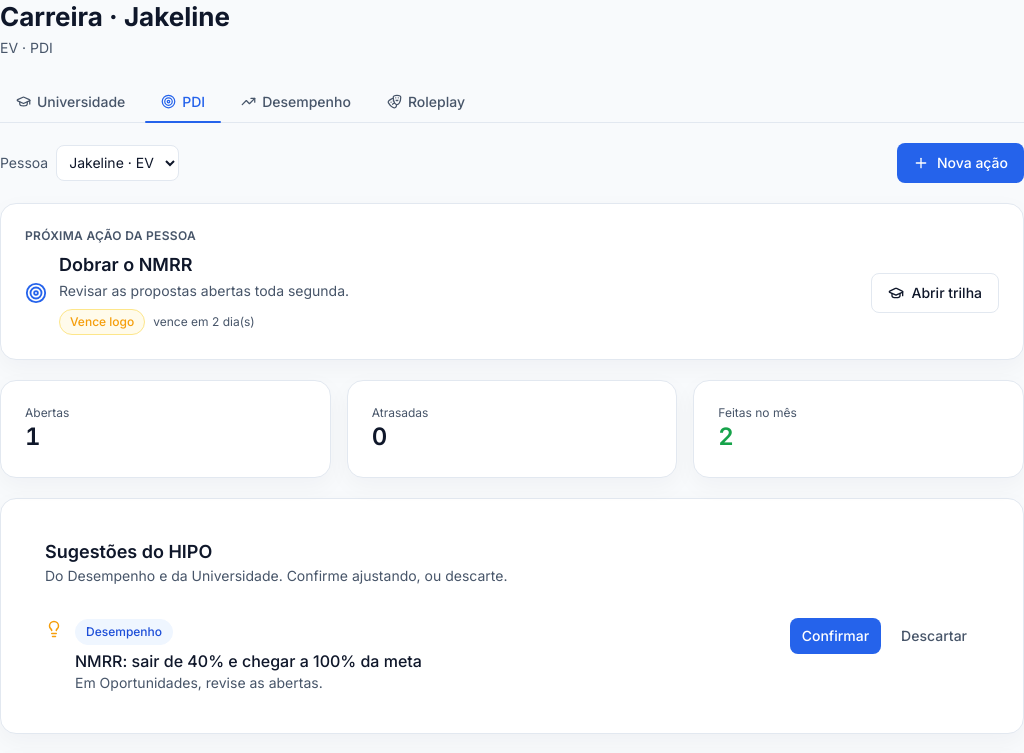
PDI › gestão confirma a sugestão pelo formulário preenchido
Click the button "Confirmar" at (835, 636), box [790,618,881,654]
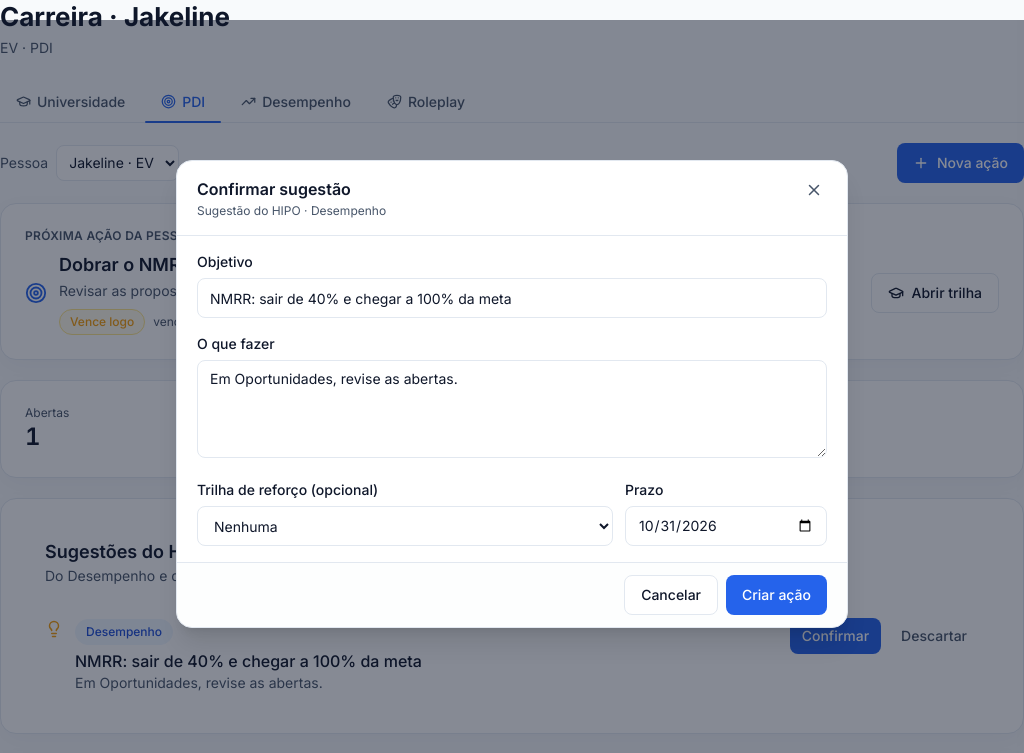
Check: the field labelled "Objetivo" holds "NMRR: sair de 40% e chegar a 100% da meta"
Check: the date field labelled "Prazo" holds "2026-10-31", box [625,506,827,546]
Replace the text in the field labelled "Objetivo" with "NMRR na meta em outubro" at (512, 298), box [197,278,827,318]
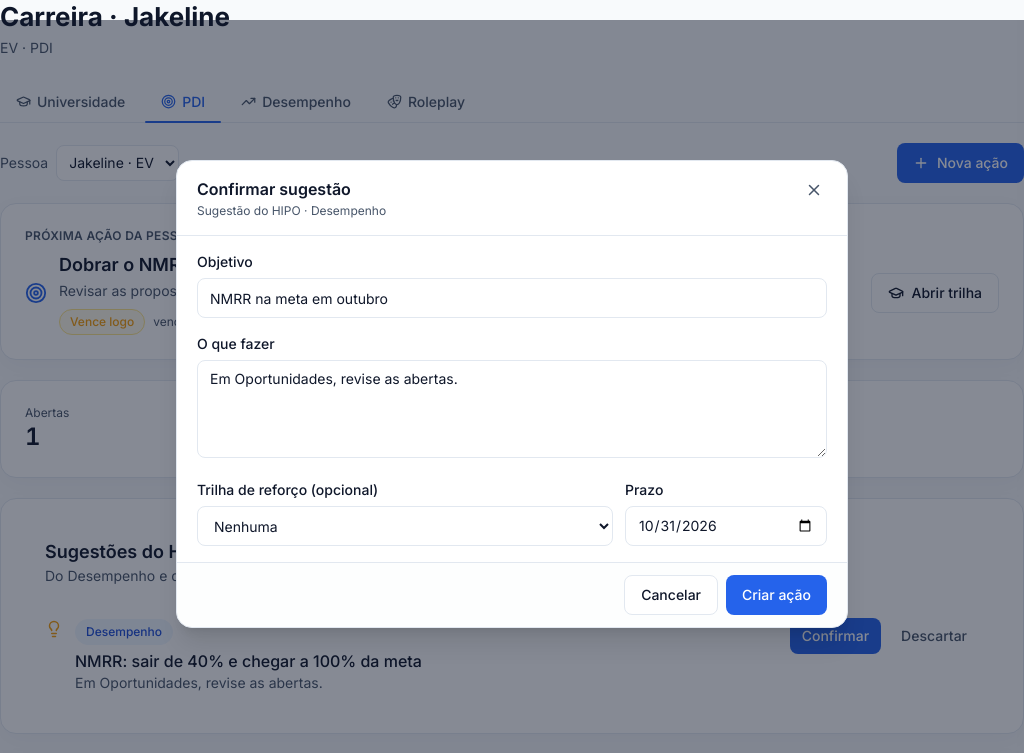
Select "Método · 02 · Roteiro do EV" in the dropdown labelled "Trilha de reforço (opcional)" at (405, 526), box [197,506,613,546]
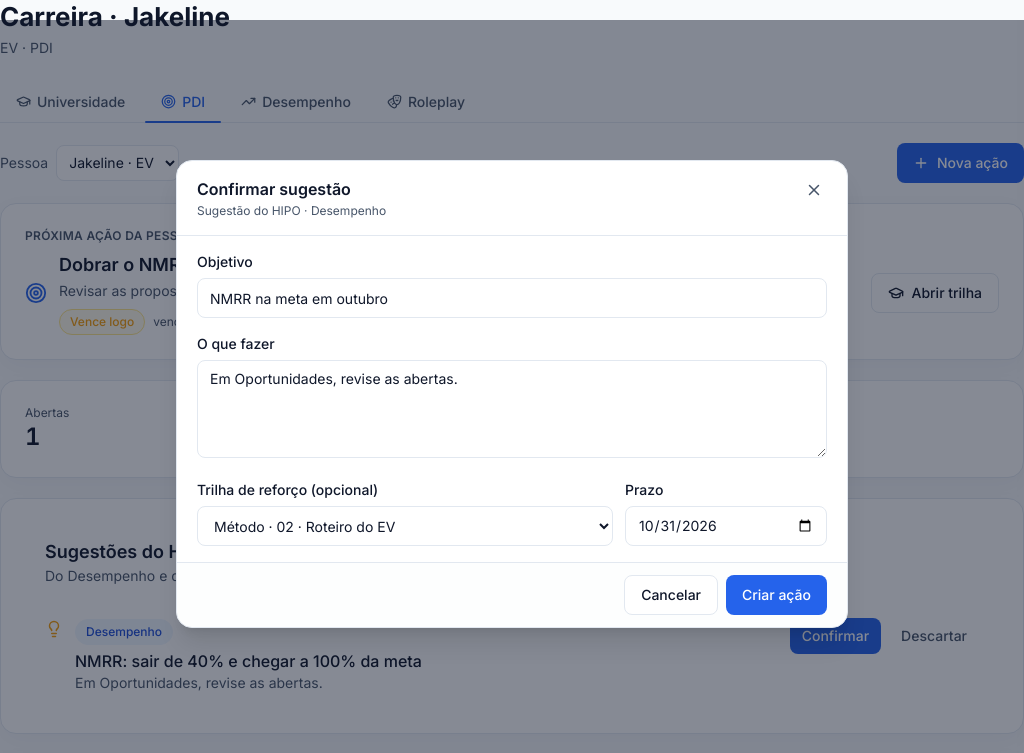
Click the button "Criar ação" at (776, 595), box [726,575,827,615]
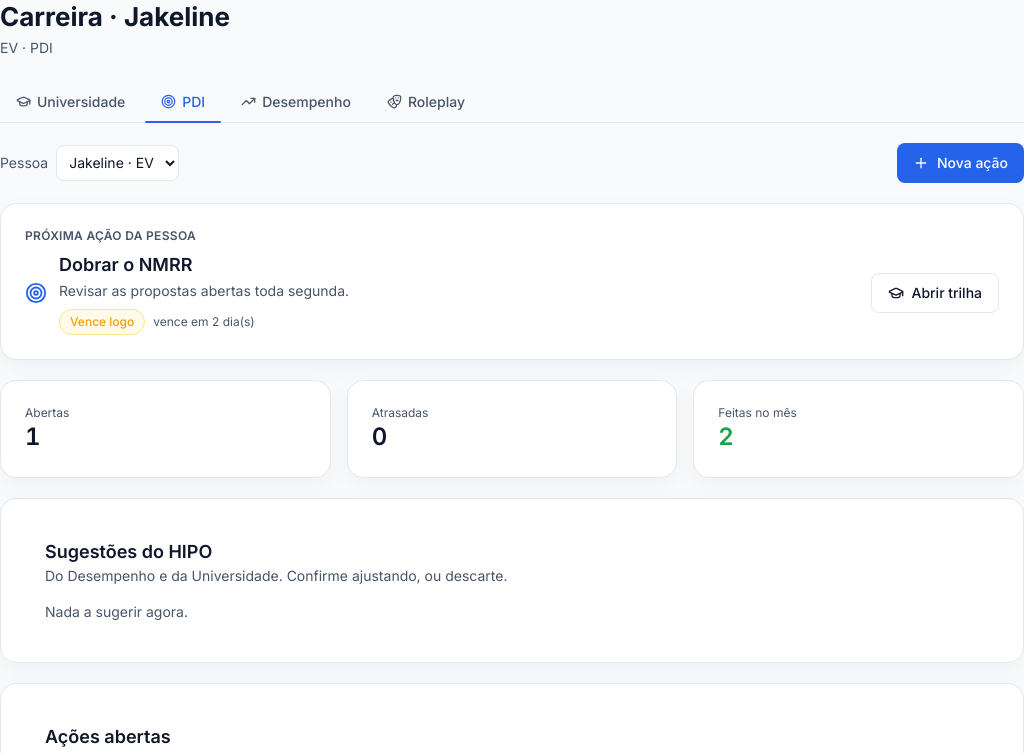
Check: the text "Nada a sugerir agora." is shown, box [45,603,188,620]
